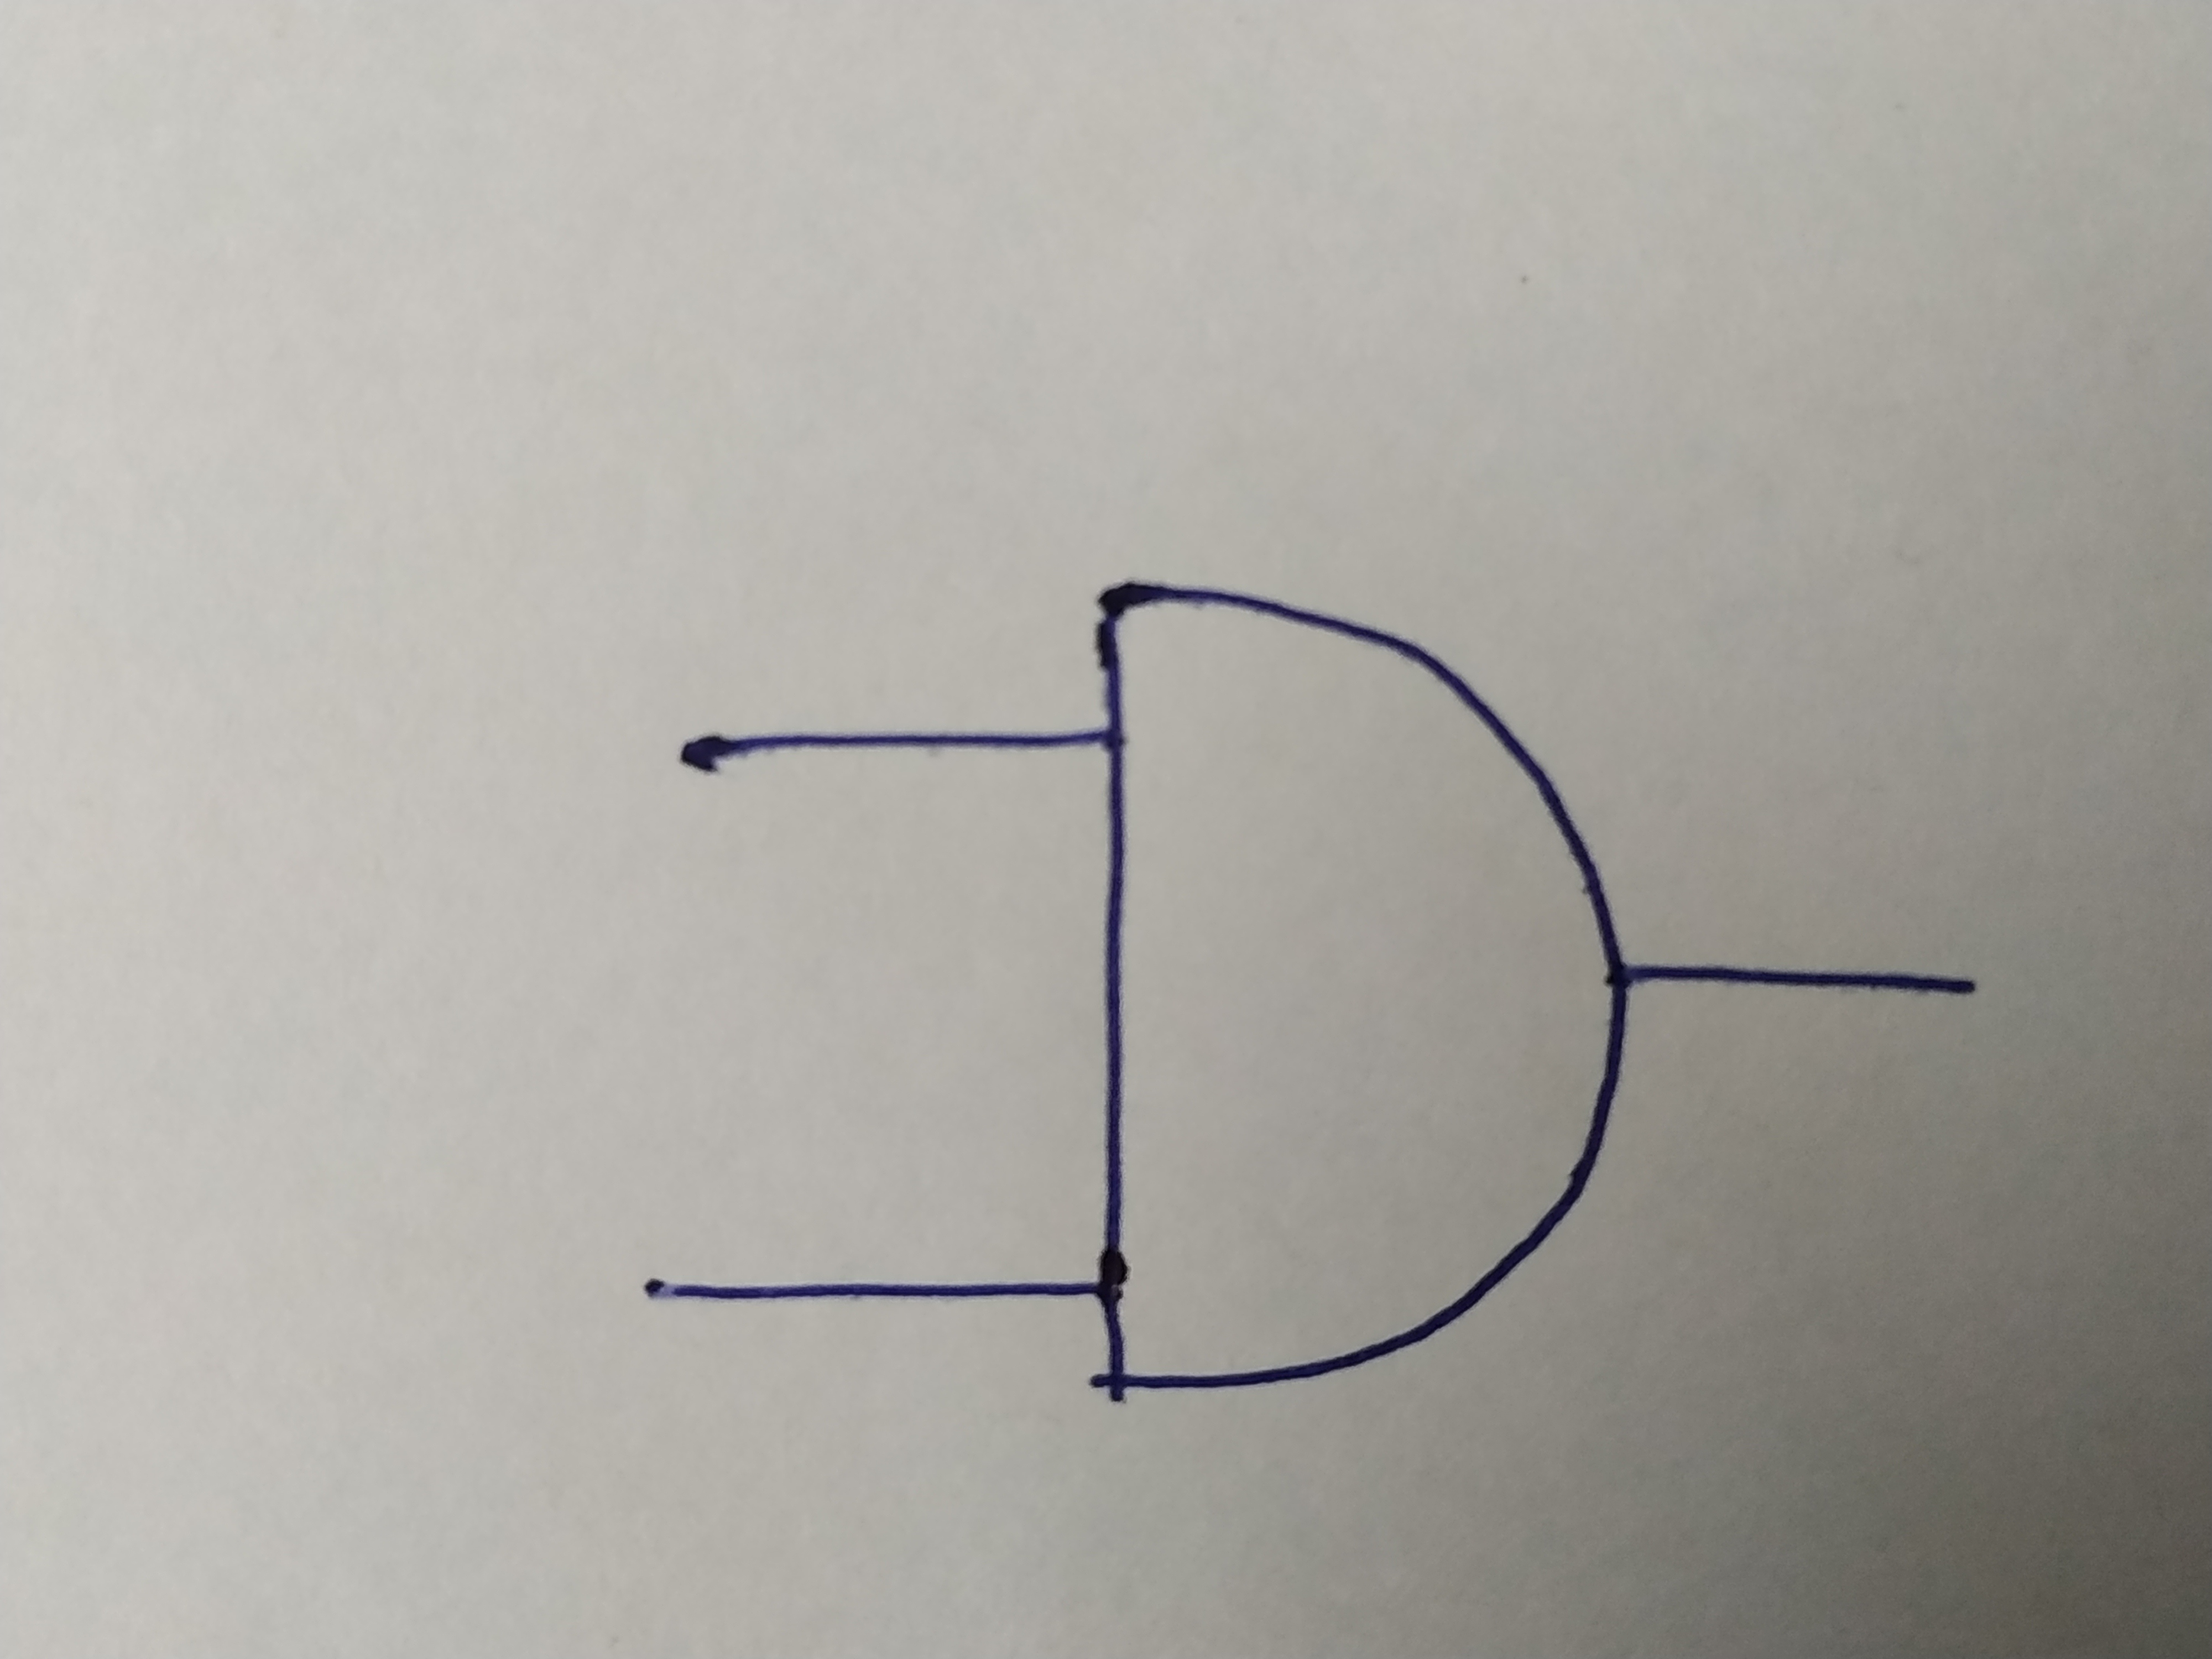and: (1094, 591, 1613, 1392)
